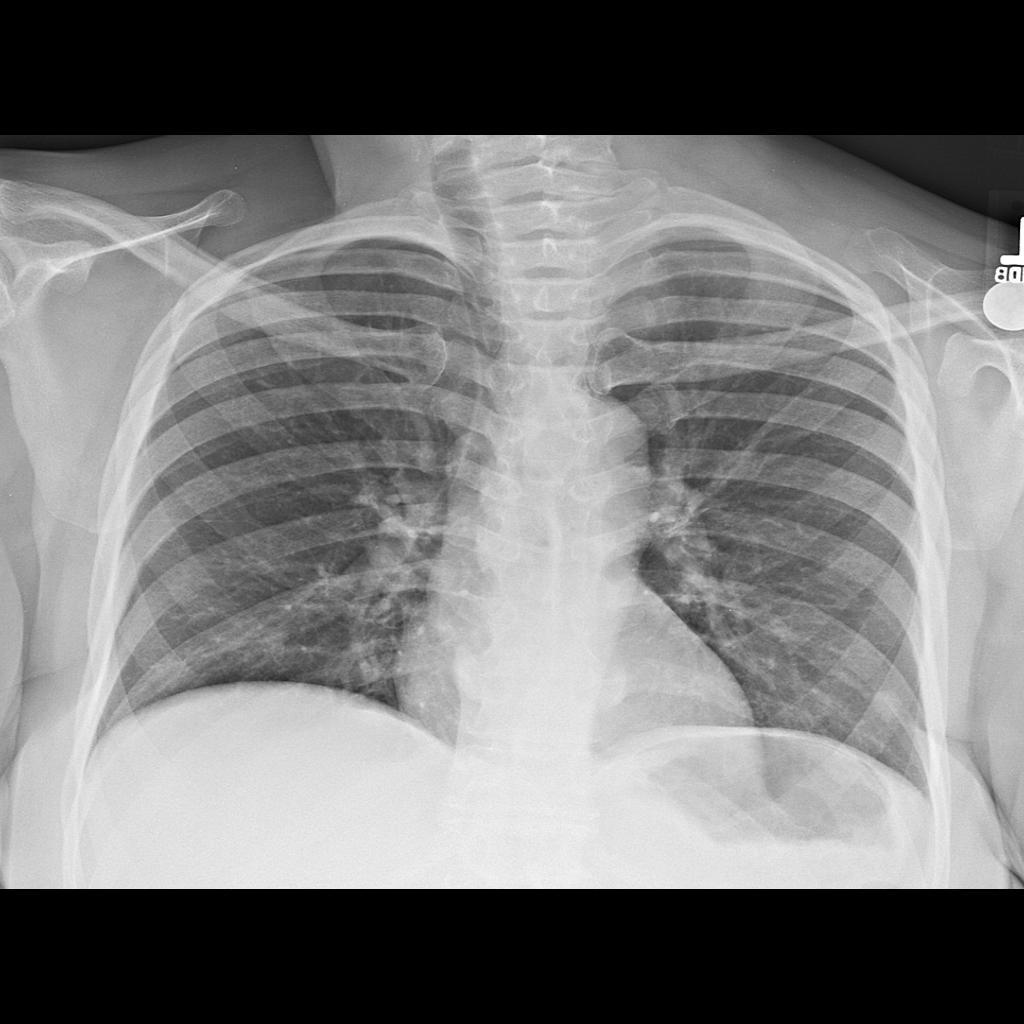Nodule: (864, 682, 908, 730)
